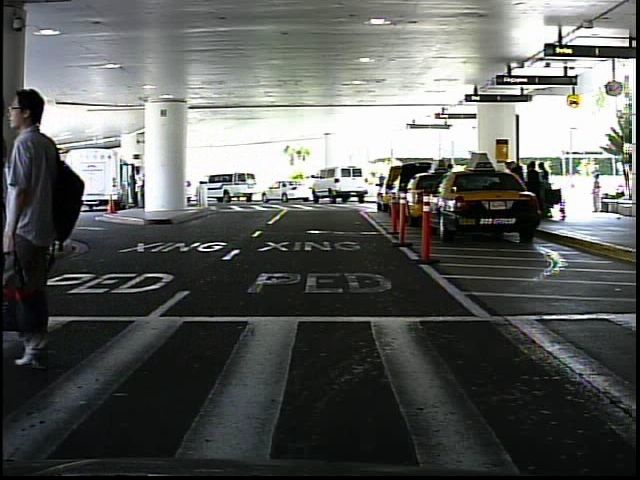person: (15, 68, 105, 385), (49, 171, 67, 221), (588, 172, 607, 218)
